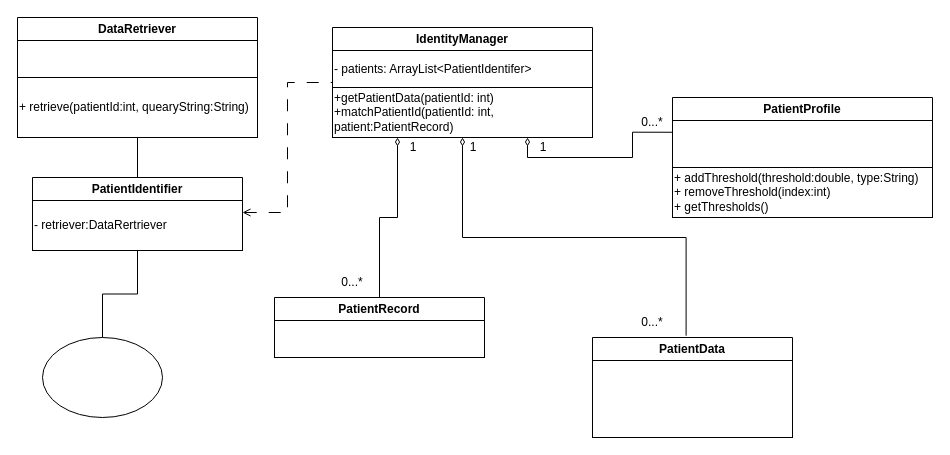
Image size: 950x455. Some labels were removed from this diagram. The shapes that lost their labels are listed below. From the top down, each one's centre as x and y in pixels, then its label:
point (137, 59): - storage: DataStorage
point (802, 144): - patientID: int - alertThresholds: Map<String,double>
point (379, 339): - patientId: int
point (102, 377): External/Simulated Data Source
point (692, 399): - history: PatientRecord - patientId:int - externalHistoryId:String
